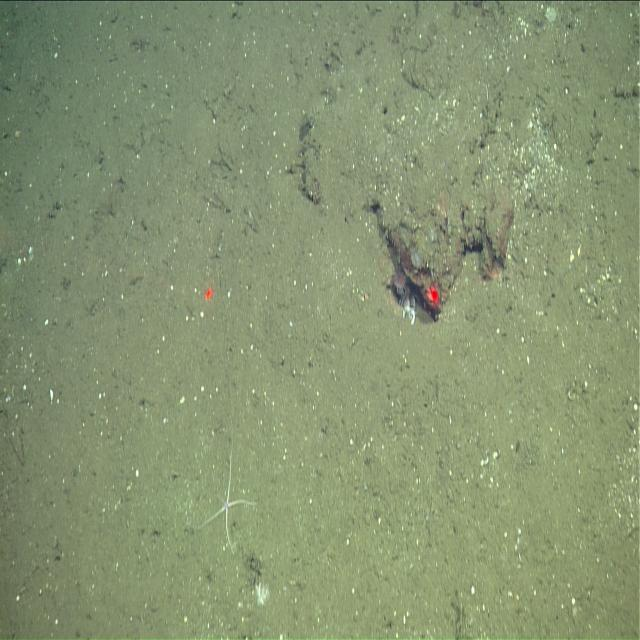Brittle Star: (189, 444, 260, 560)
